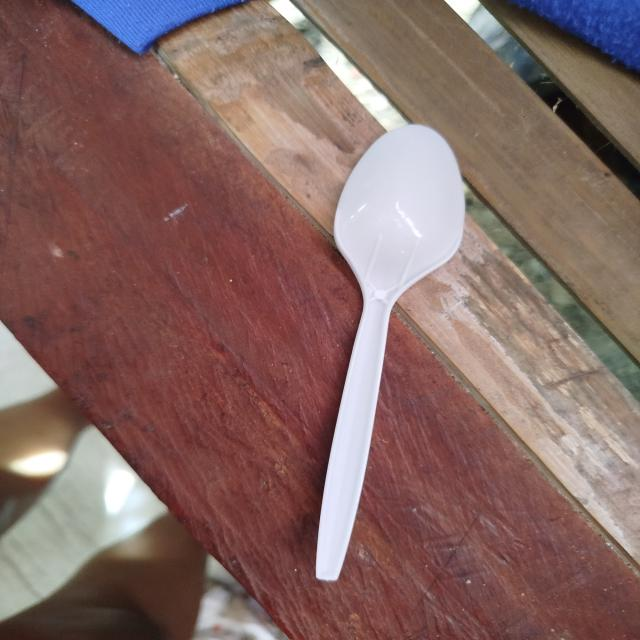plastic: (256, 97, 503, 600)
